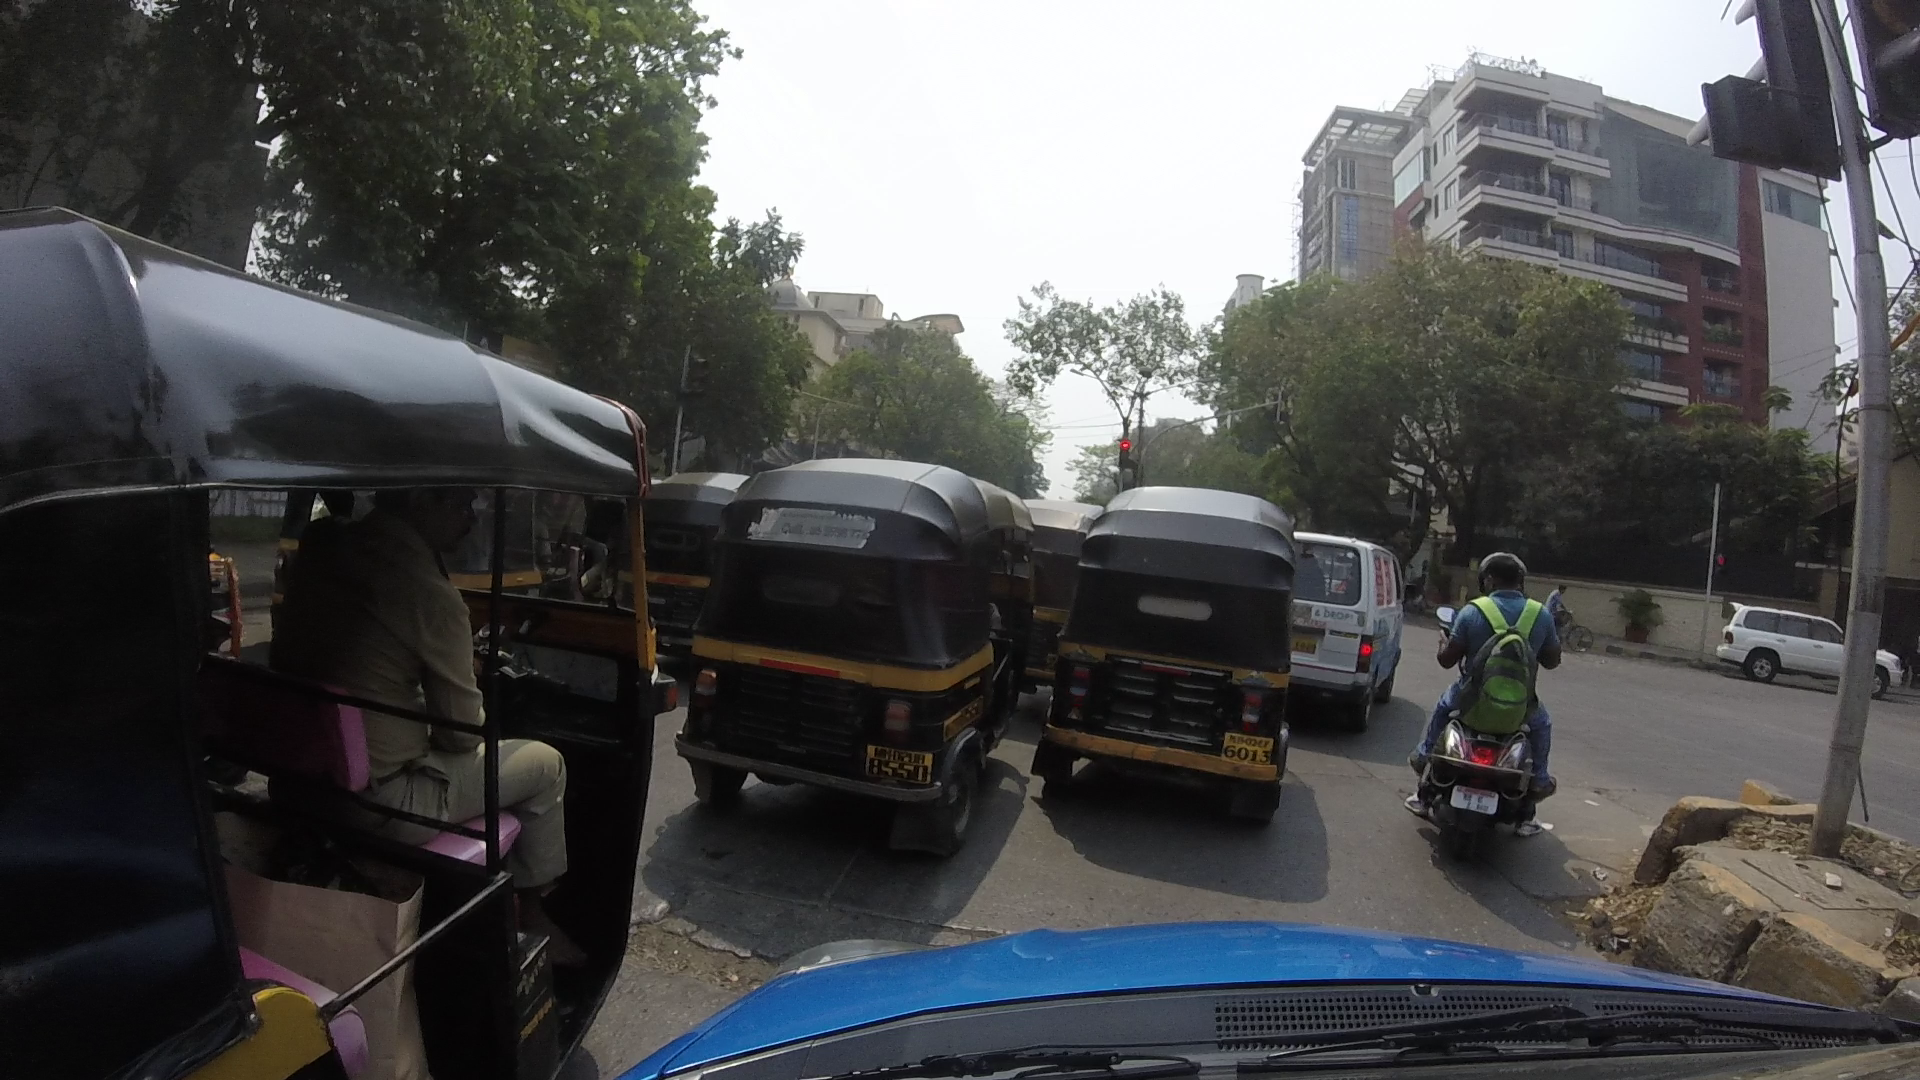bike/scooter: (1411, 533, 1555, 839)
car: (1278, 522, 1422, 733), (1725, 601, 1899, 692)
rickshaw: (5, 210, 663, 1069), (708, 460, 1031, 857), (1062, 472, 1294, 833)
